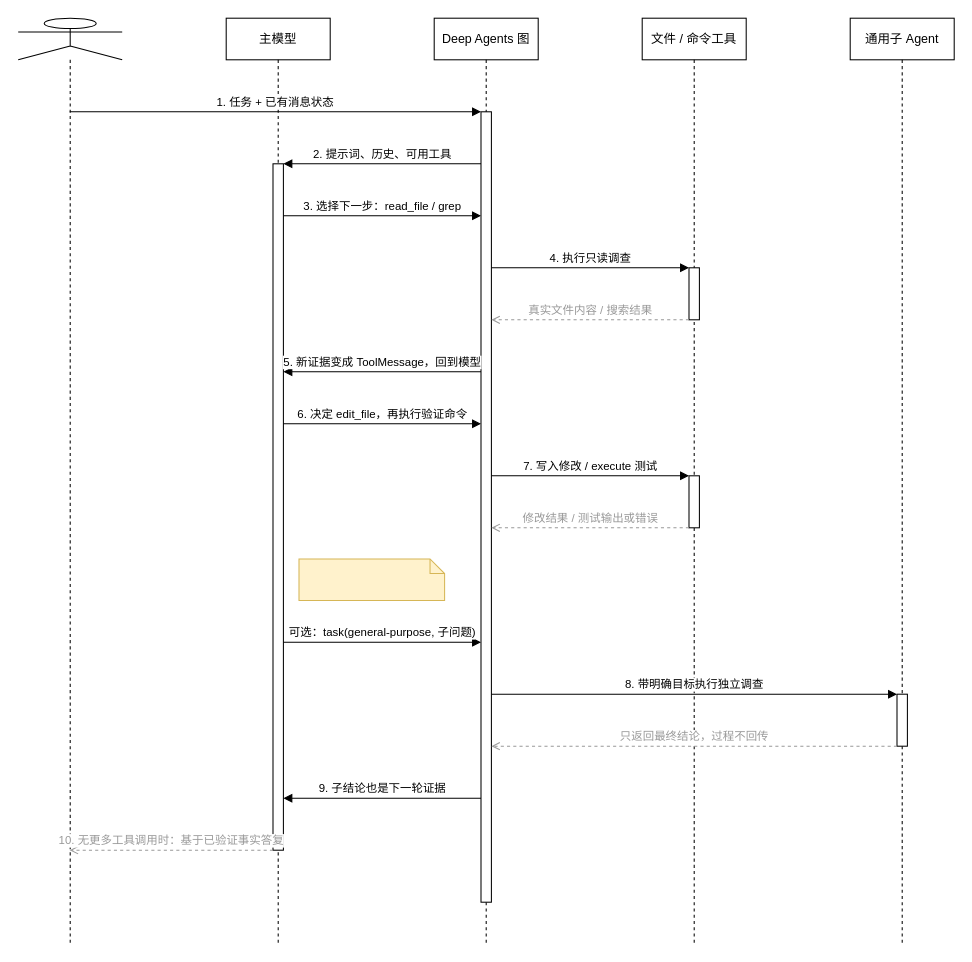
Image size: 972x962. Some labels were removed from this diagram. Each missing label, with the box of its shape:
任务消息: (17, 17, 122, 944)
复杂且可拆分时，主模型可调用 task；不是每个任务都需要委派: (298, 558, 445, 601)
